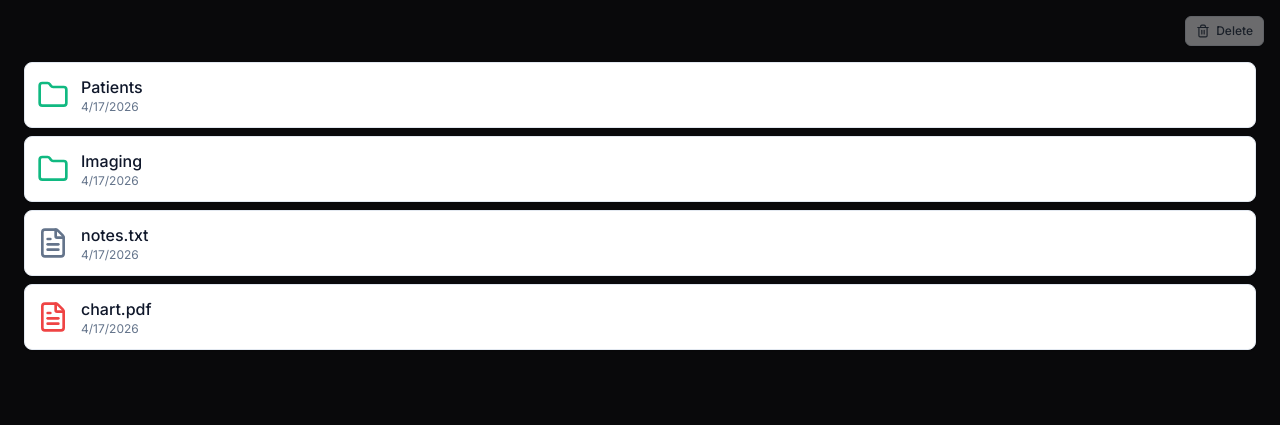
Test case: ContentPanel › surfaces a delete failure inline and leaves the row in the list
The image size is (1280, 425).
Click the list item "notes.txt 4/17/2026": (640, 243) [24,210,1256,276]
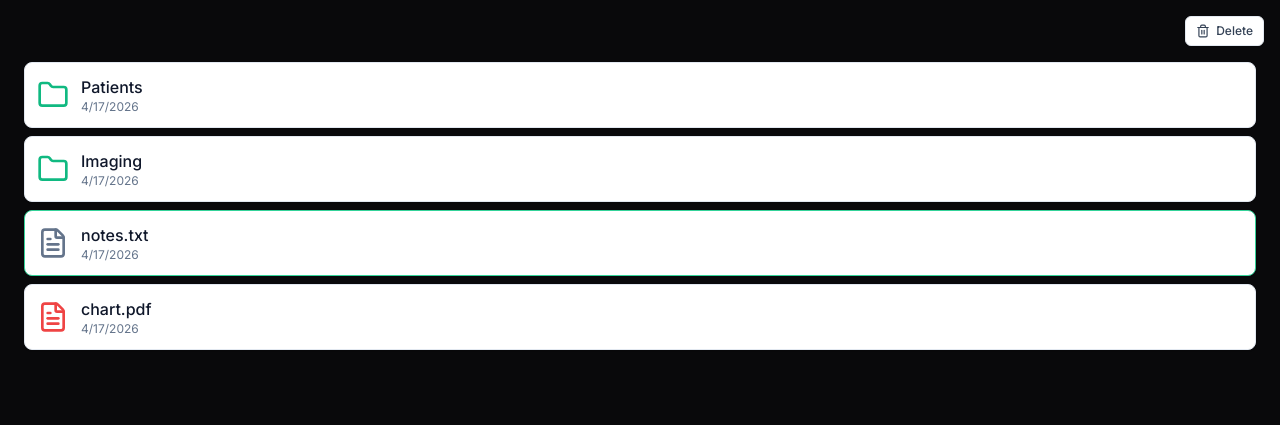
Click the button with test id "content-delete": (1225, 31) [1185,16,1264,46]
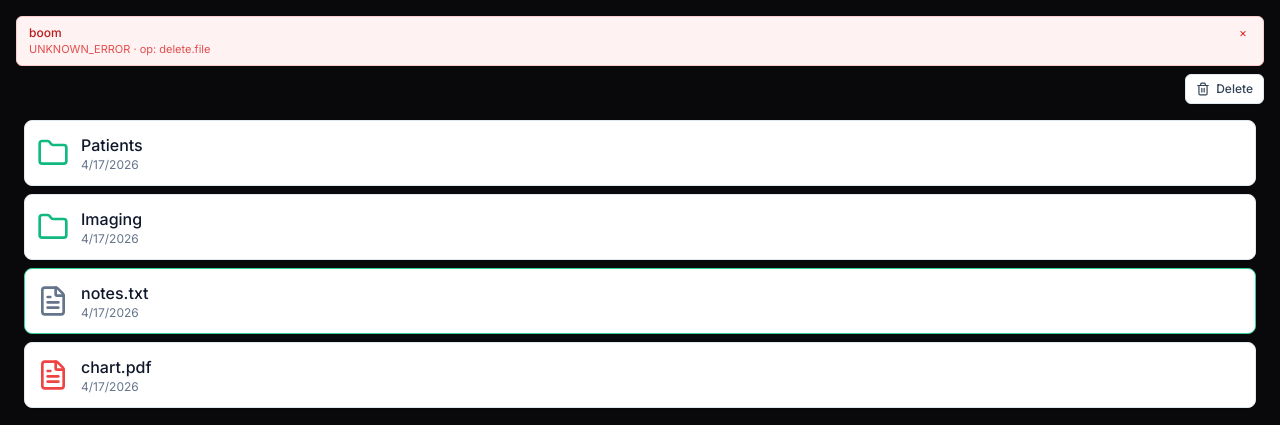
expect the message with test id "content-delete-error" shows "boom": met, box [29,25,62,40]
